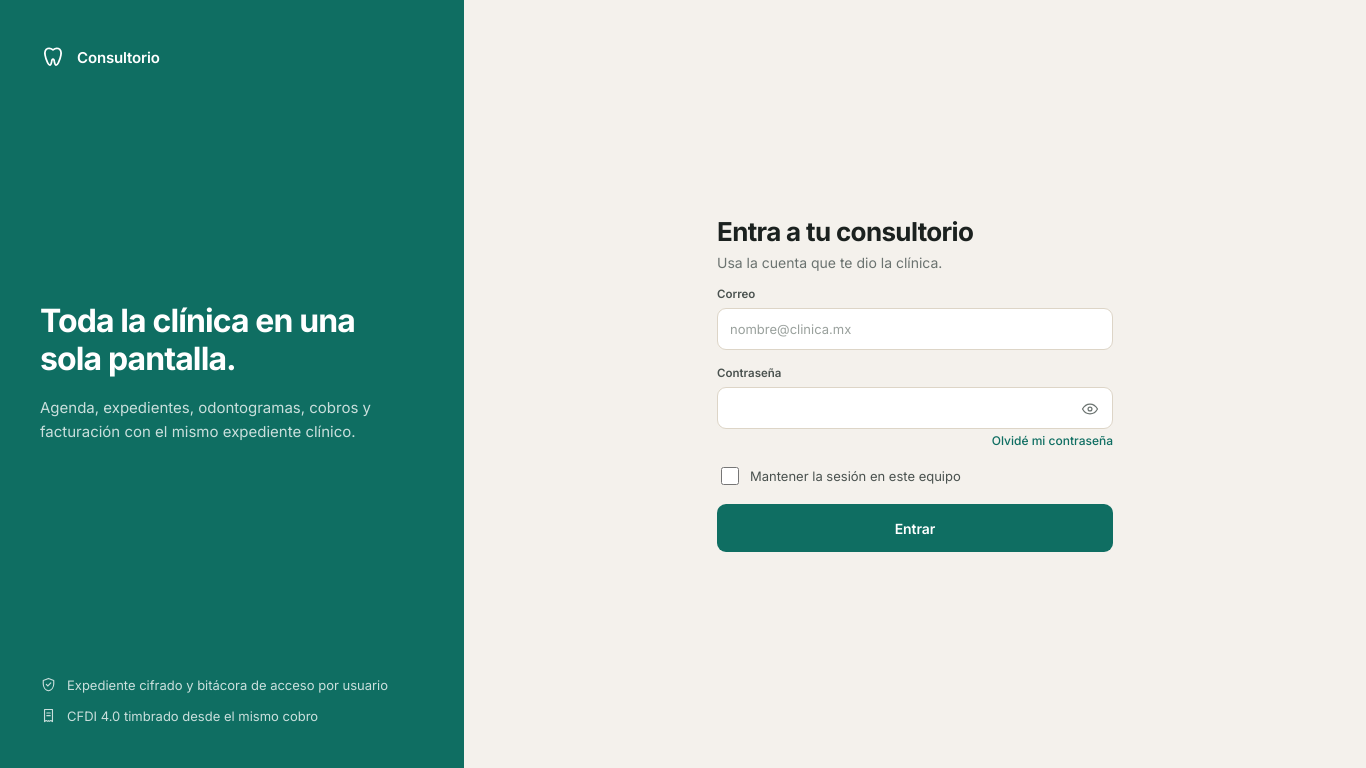
<LoginPage /> › shows a generic message for invalid credentials
Check: the button "Entrar" is enabled, box [717,504,1113,552]
In the field labelled "Correo": (915, 329) [717,308,1113,350], type "mariana@clinica.mx"
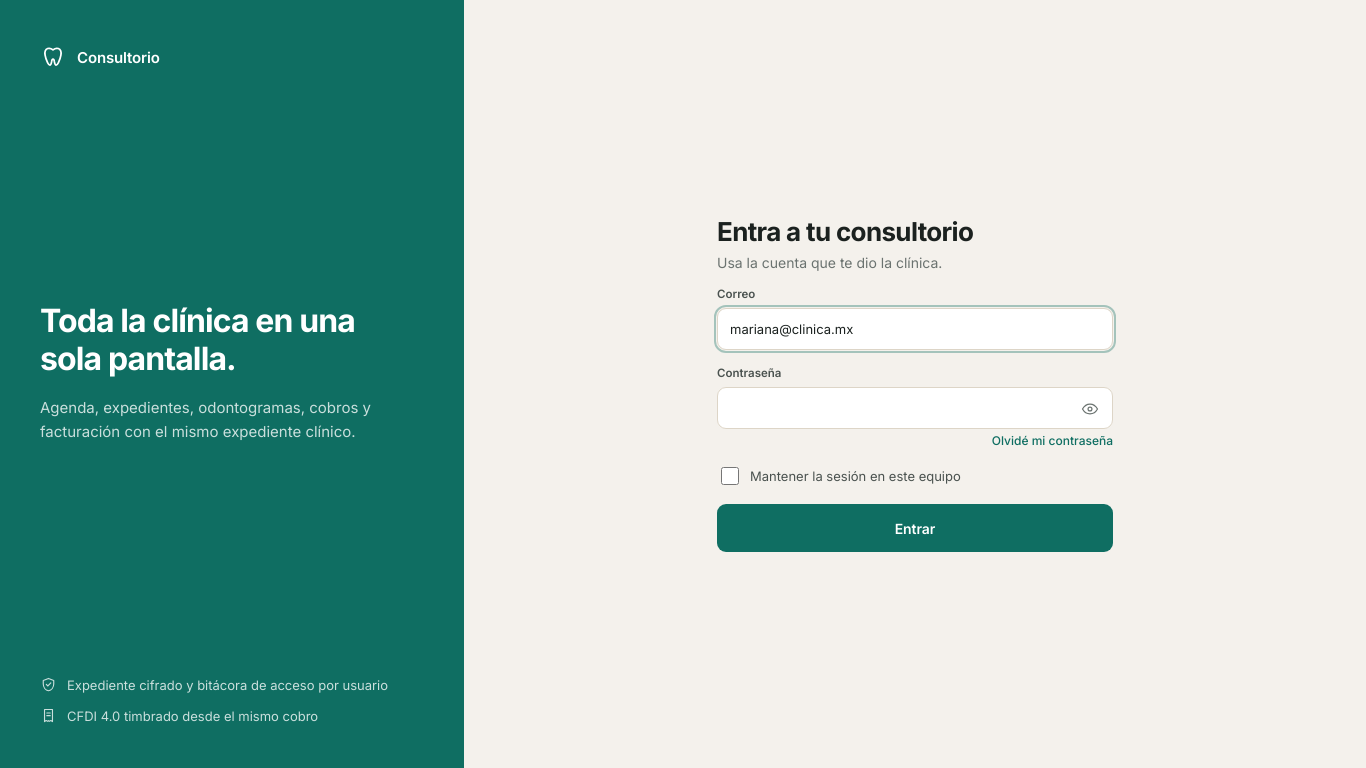
In the password field labelled "Contraseña": (915, 408) [717,387,1113,429], type "secret123"
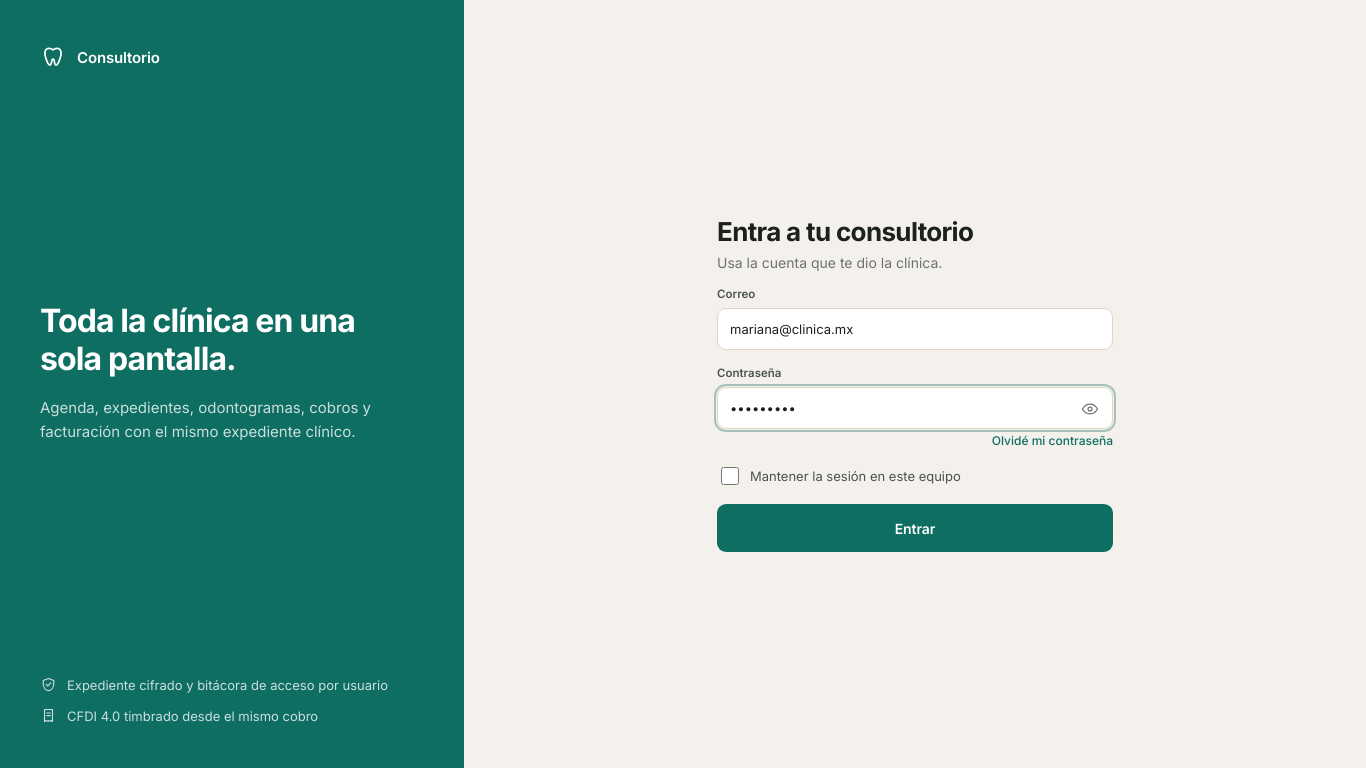
Click the button "Entrar": (915, 528) [717,504,1113,552]
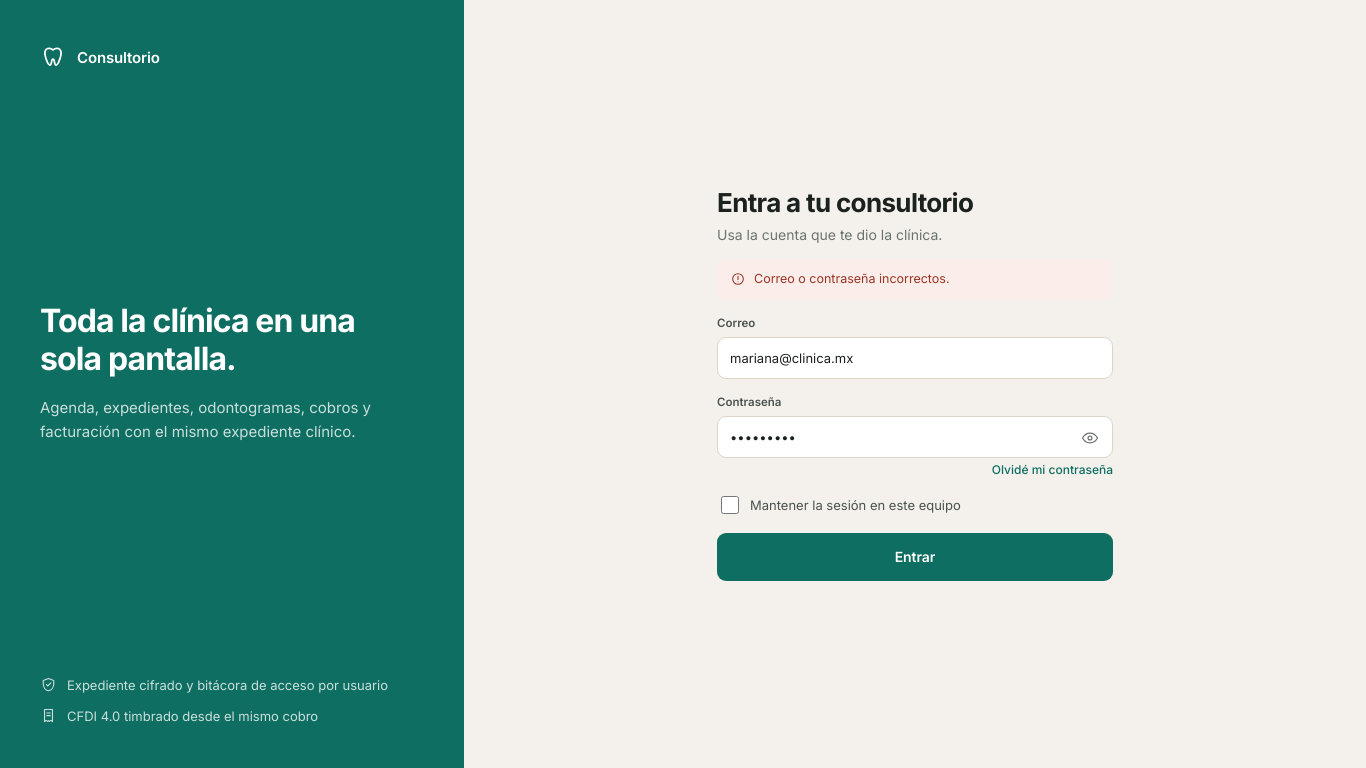
Check: the message reads "Correo o contraseña incorrectos.", box [754,271,950,286]
